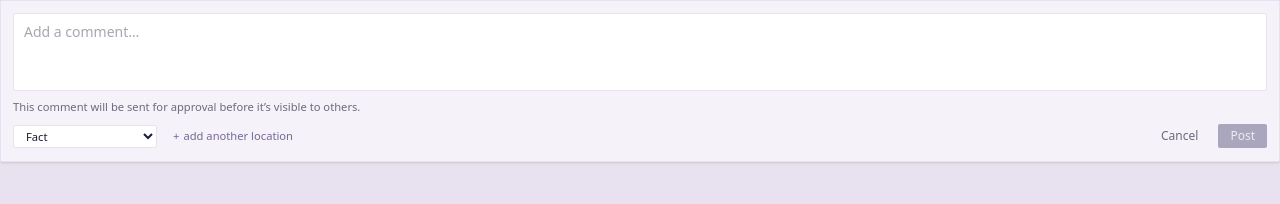
Test: keeps the body and shows an error when submit rejects
The width and height of the screenshot is (1280, 204).
In the text box: (640, 52) 13,13 -> 1267,91, type "keep me"
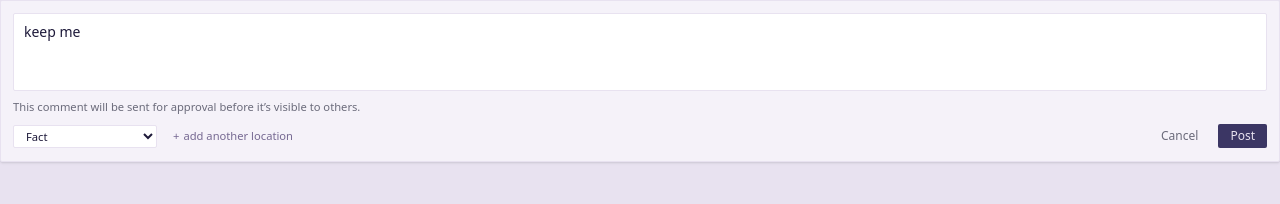
Click the button "Post": (1243, 136) 1218,124 -> 1267,148
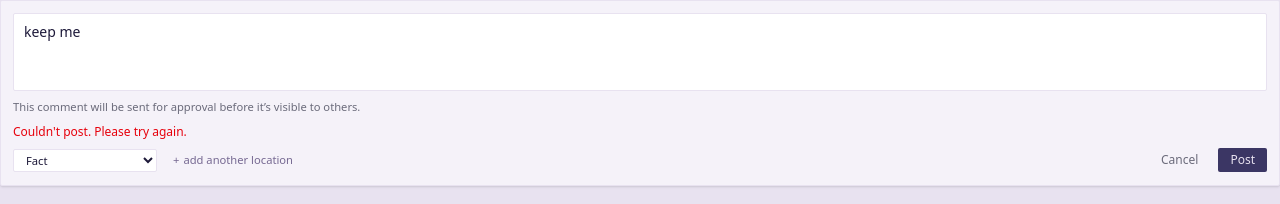
Result: the text "Couldn't post. Please try again." is shown at 13,123 -> 187,140
